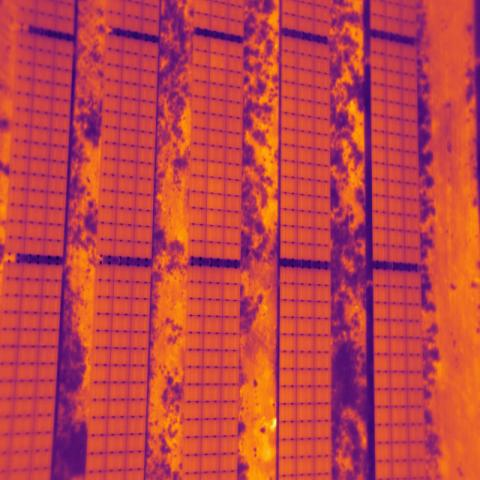fault: (210, 52, 227, 71)
